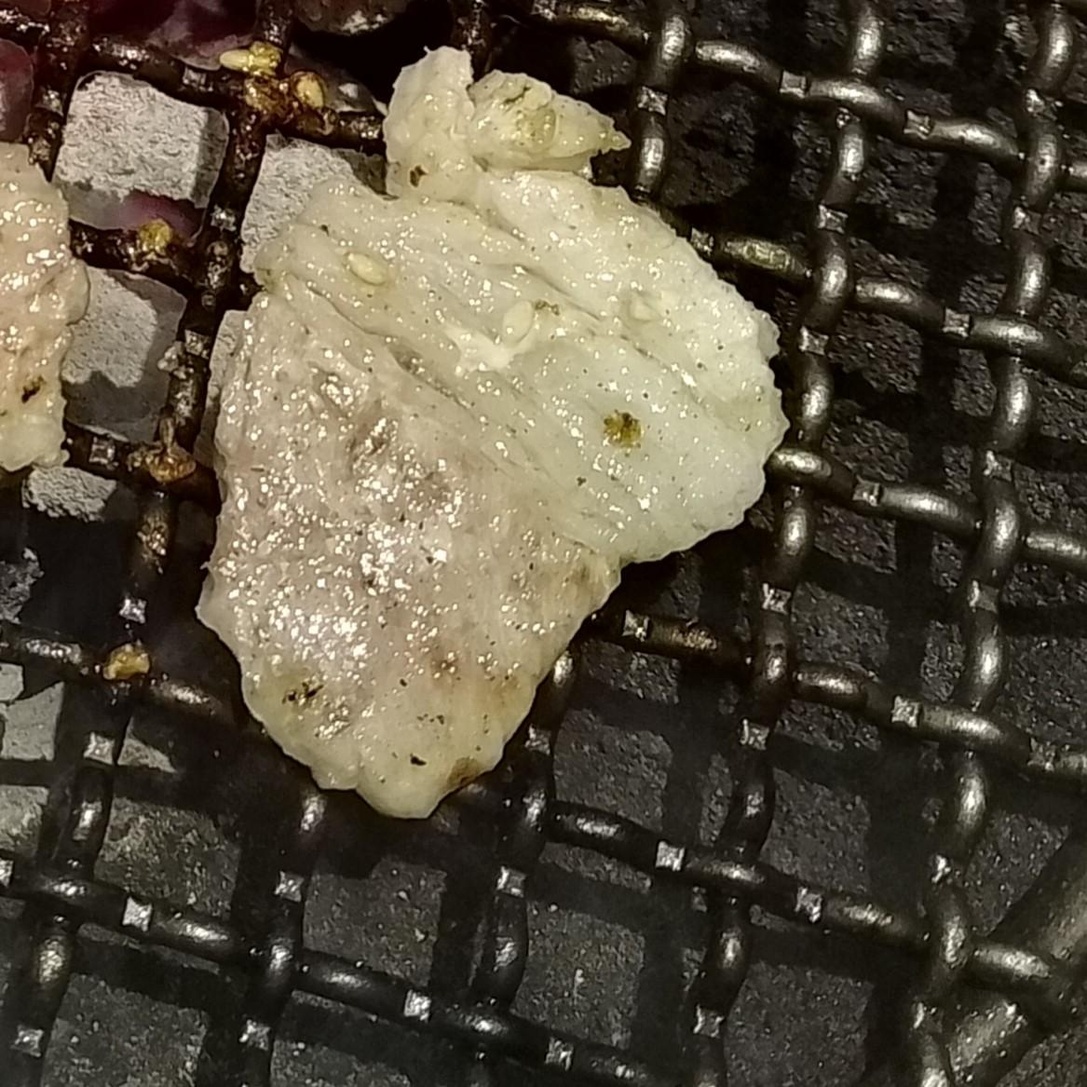Undercooked: (195, 49, 791, 825)
